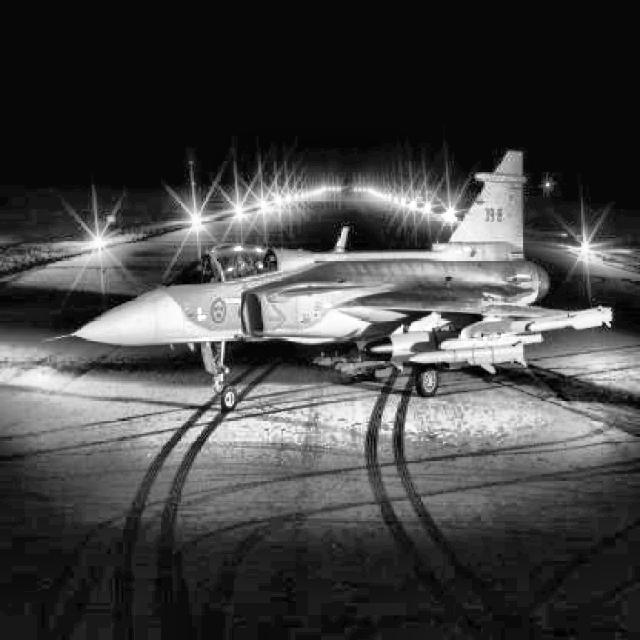JAS39: (36, 150, 612, 412)
